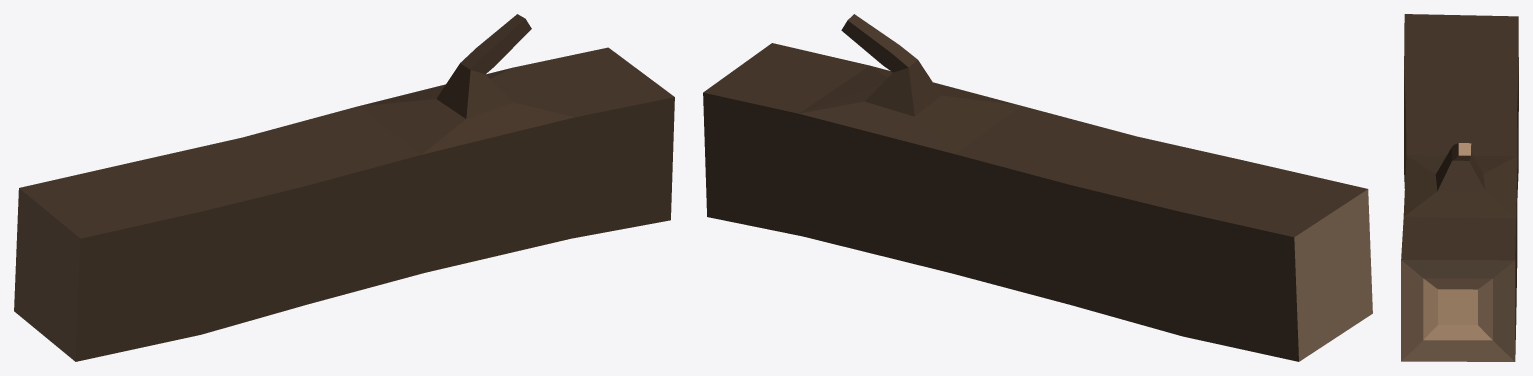
The model's file is Trunk.fbx.
3 renders of one model, left to right at view 1: azimuth 30°, elevation 25°; view 2: azimuth 150°, elevation 25°; view 3: azimuth 270°, elevation 25°, orthographic. The views are drawn at different scales.
Visible parts, largest first — view 1: Trunk; view 2: Trunk; view 3: Trunk.
Part boxes in pixels (left/top/right/bottom): Trunk: left=14, top=14, right=674, bottom=361; Trunk: left=703, top=14, right=1372, bottom=361; Trunk: left=1401, top=14, right=1518, bottom=361.
Bounding box in the file's own units: 4.02 × 1.32 × 0.8103.
